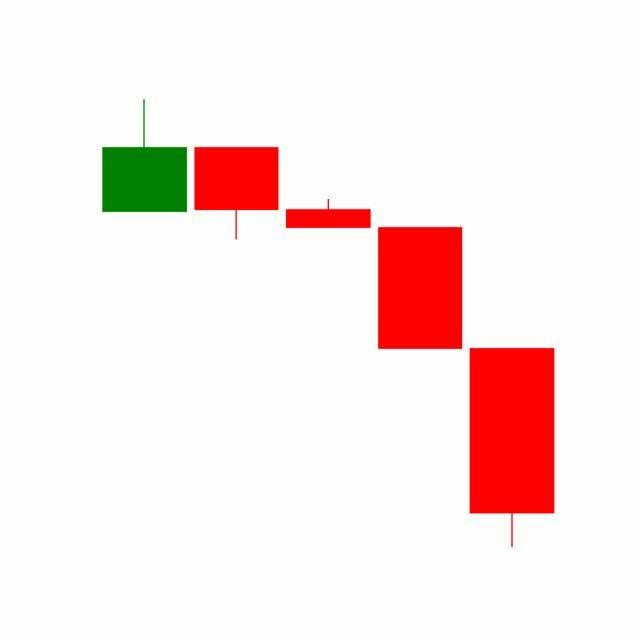Marubozu: (374, 226, 468, 351)
